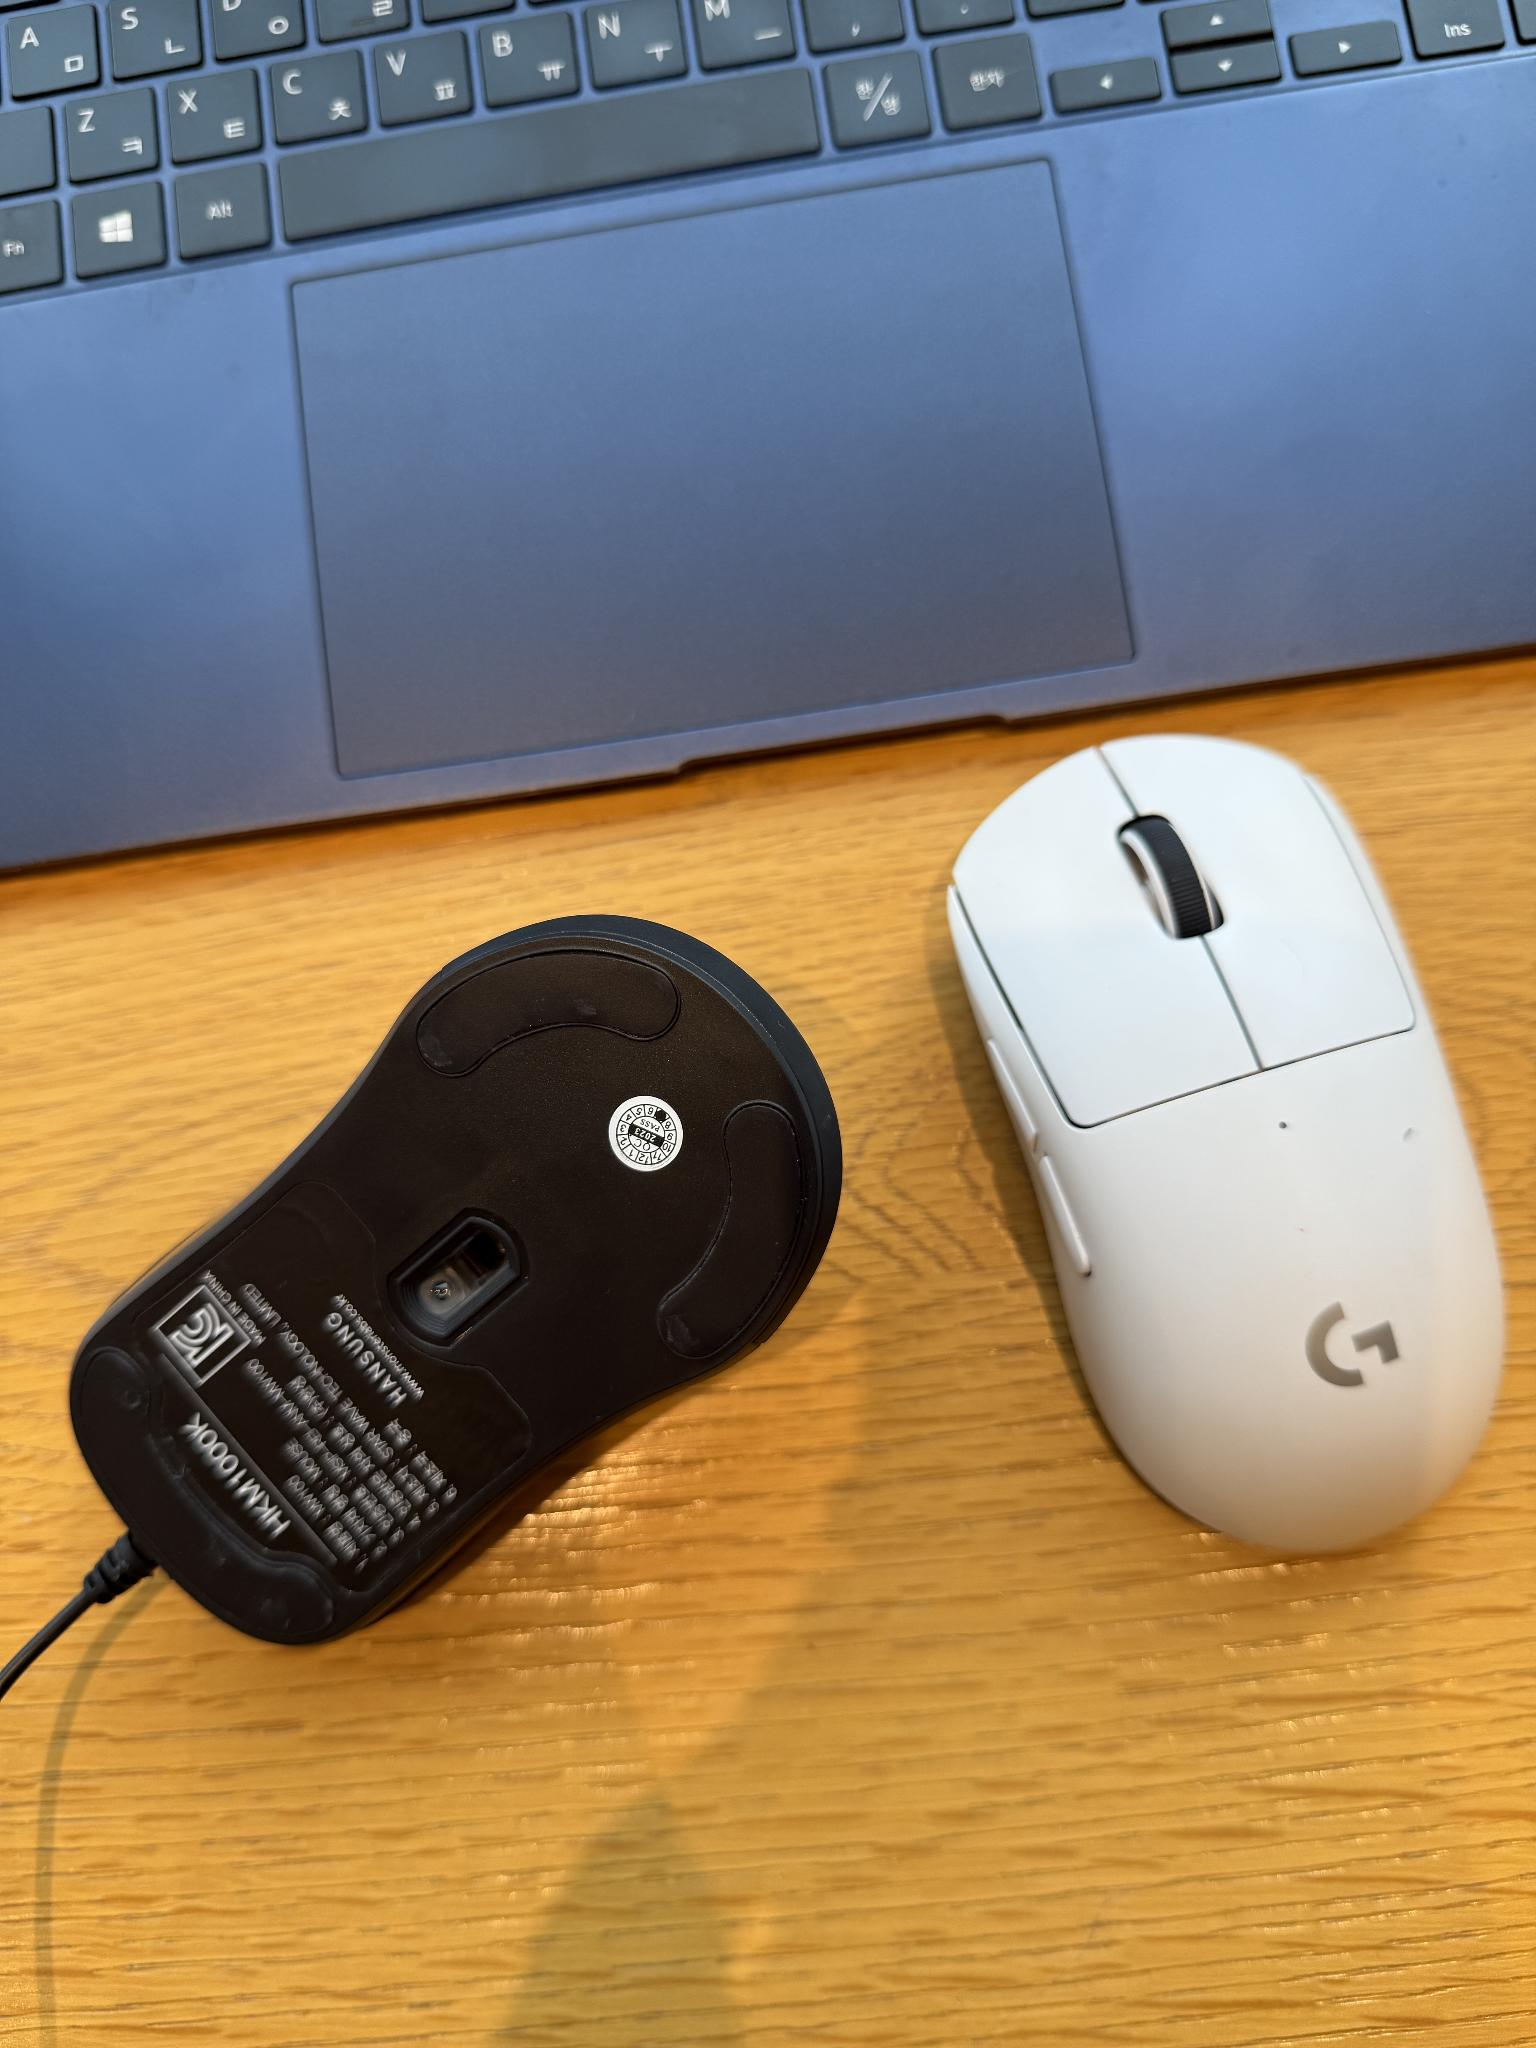back: (58, 903, 860, 1653)
front: (933, 724, 1520, 1567)
